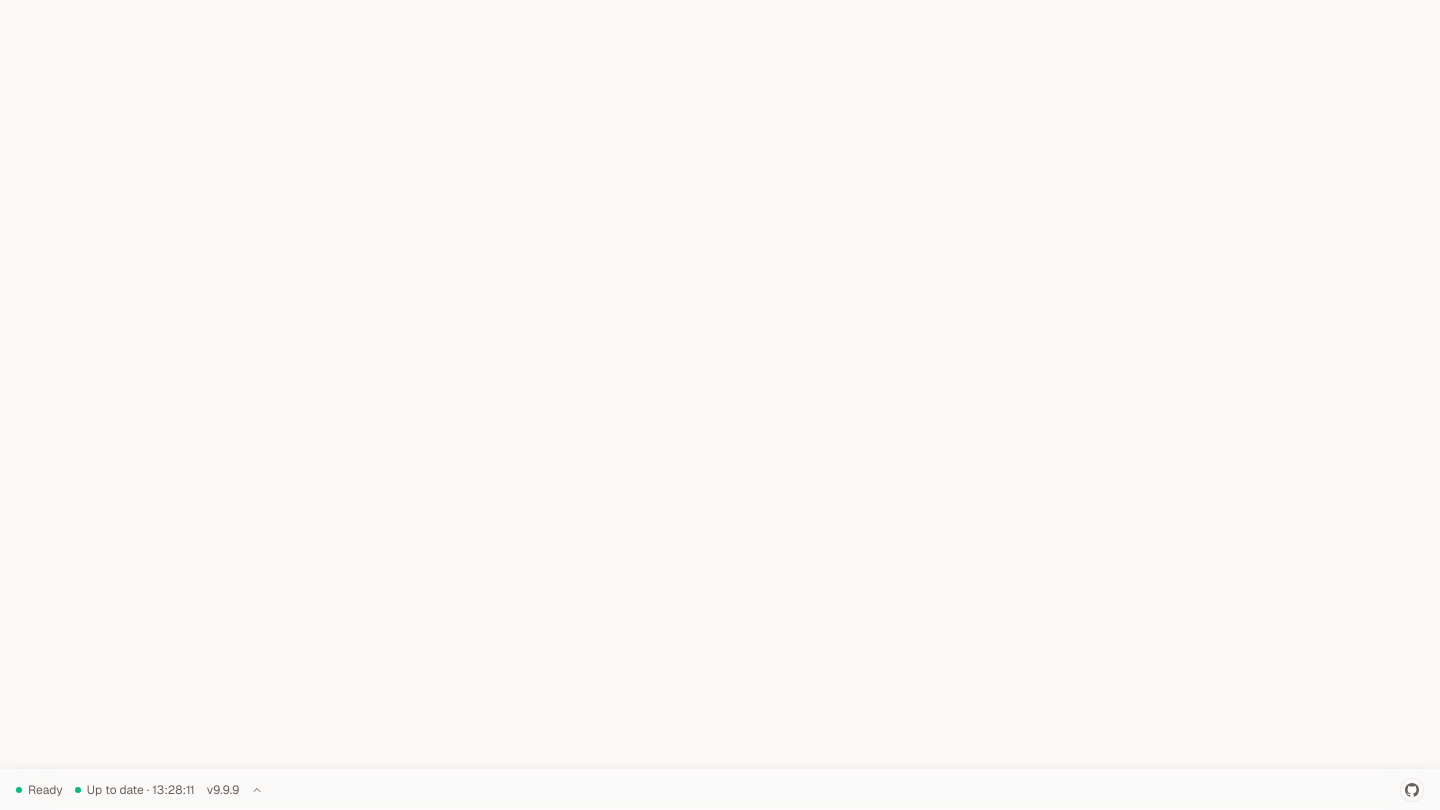
Test case: StatusBar › collapses into one tappable line on small screens and reveals details on tap
Expected: the text "Ready" is shown, [28,782,63,798]
Expected: the text "Up to date · 13:28:11" is shown, [87,782,195,798]
Click the button with aria-label "Show service status details". click: (140, 790)
box: [12,780,267,800]
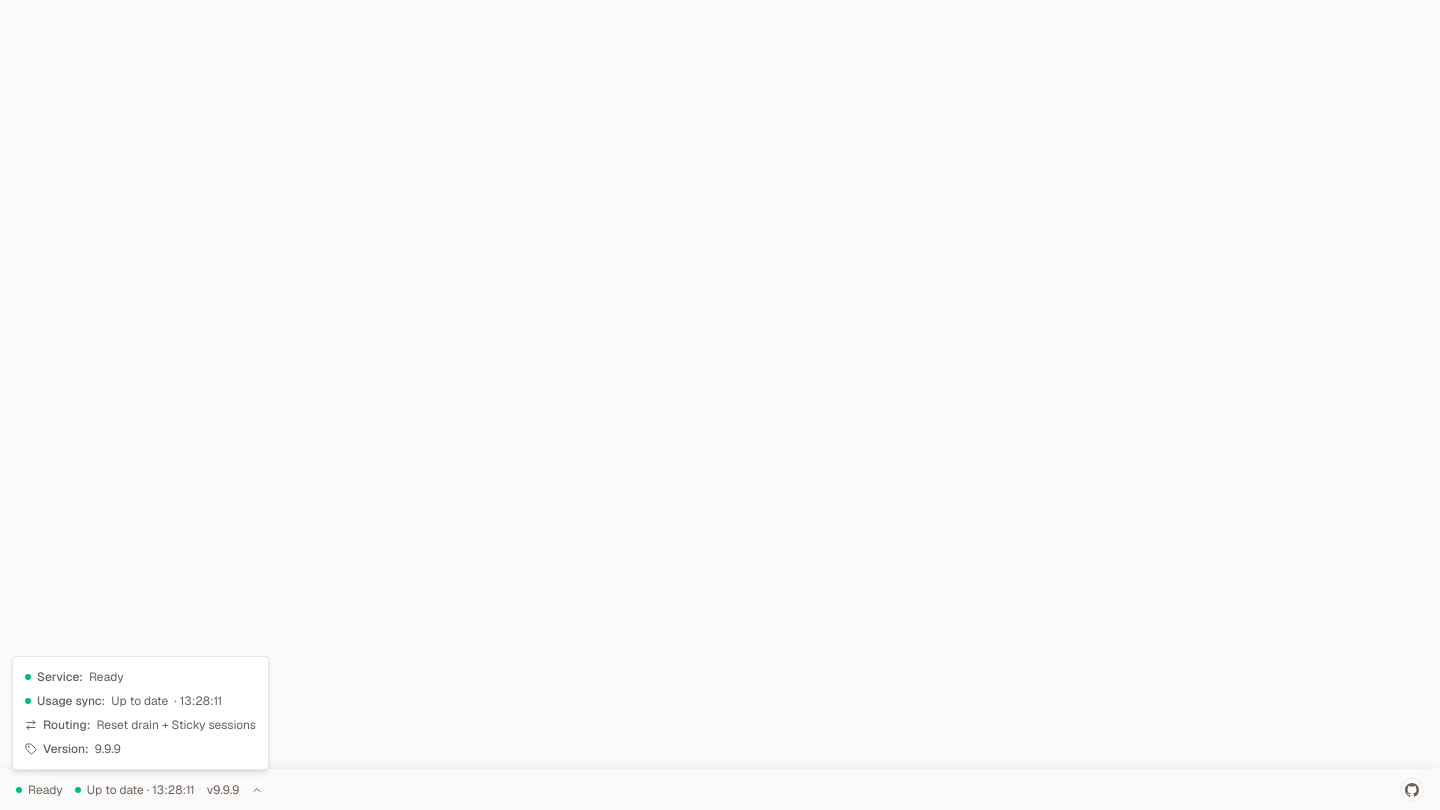
Result: the text "Reset drain + Sticky sessions" is shown at [96,717,256,733]
Result: the text "Routing:" is shown at [43,717,90,733]
Result: the text "Version:" is shown at [43,741,89,757]
